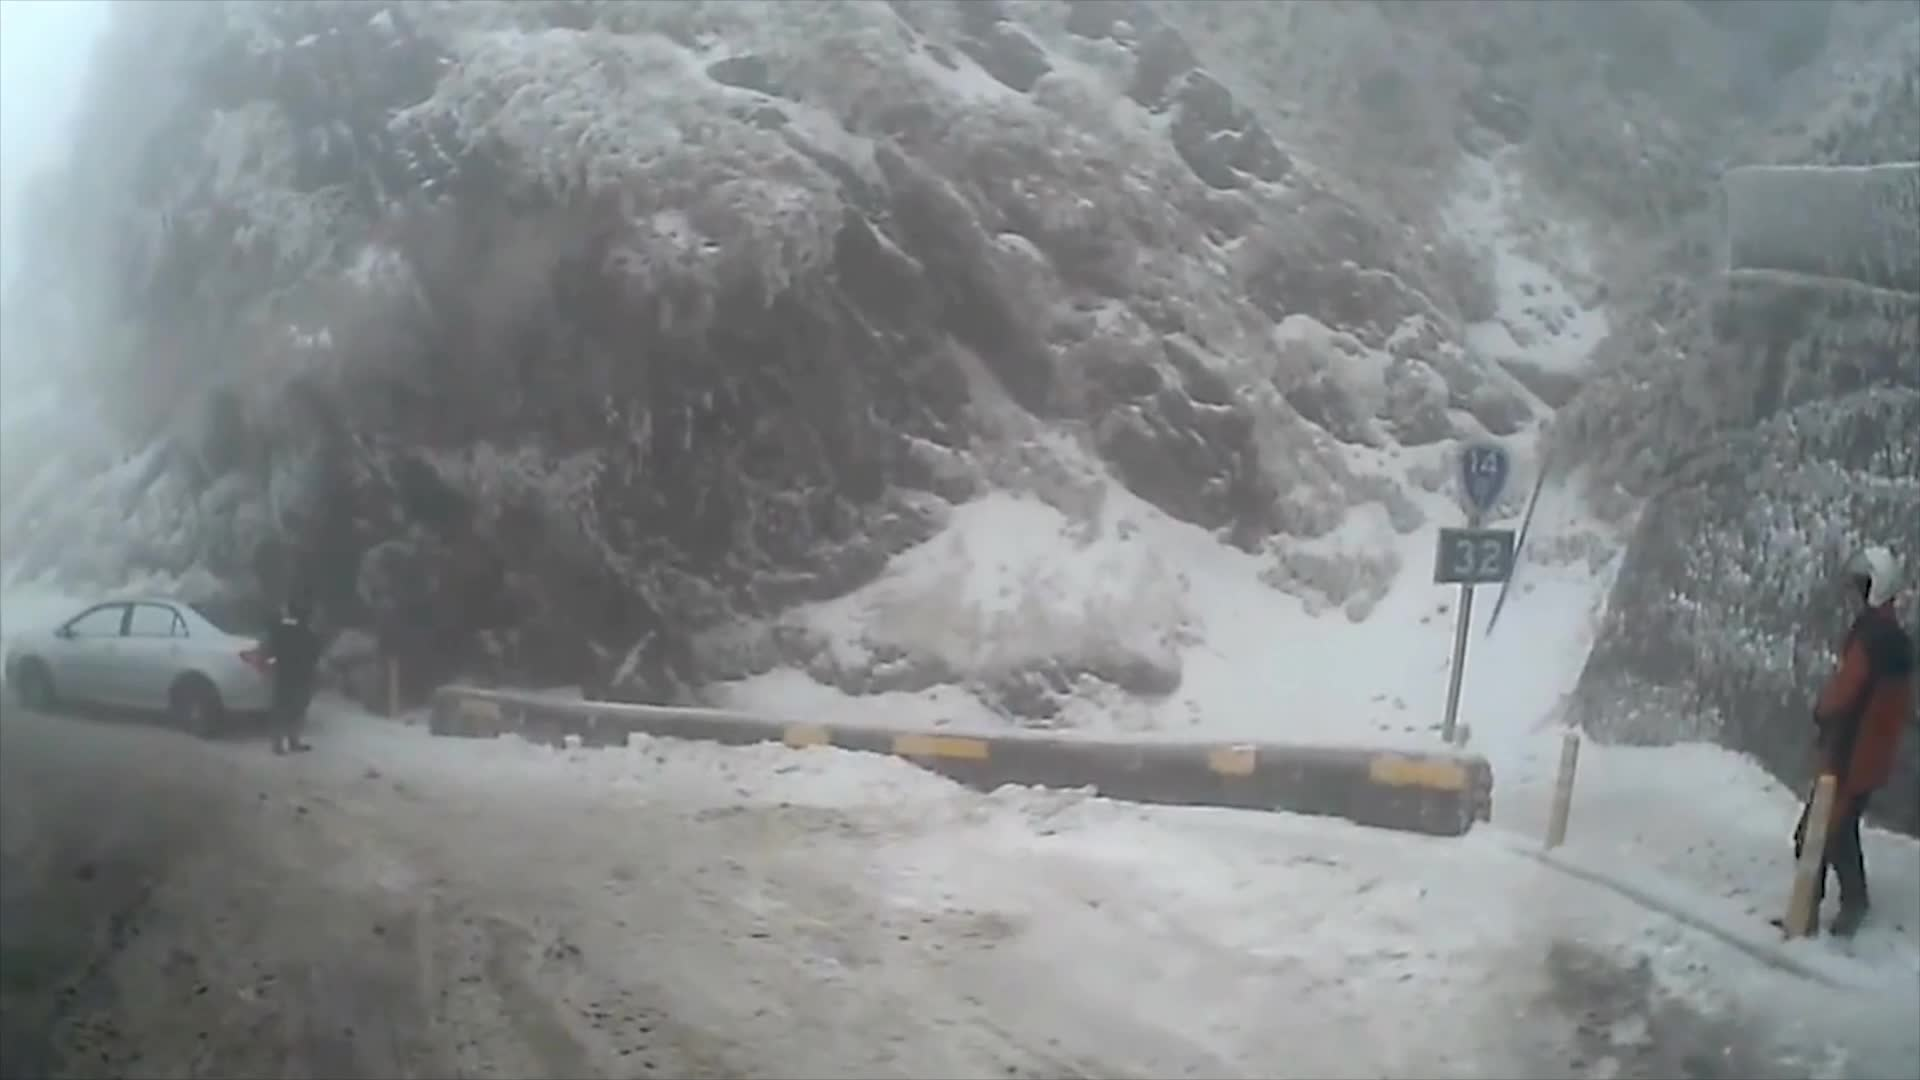pedestrian: (1766, 547, 1920, 943), (260, 590, 320, 753)
vehicle: (0, 591, 295, 736)
